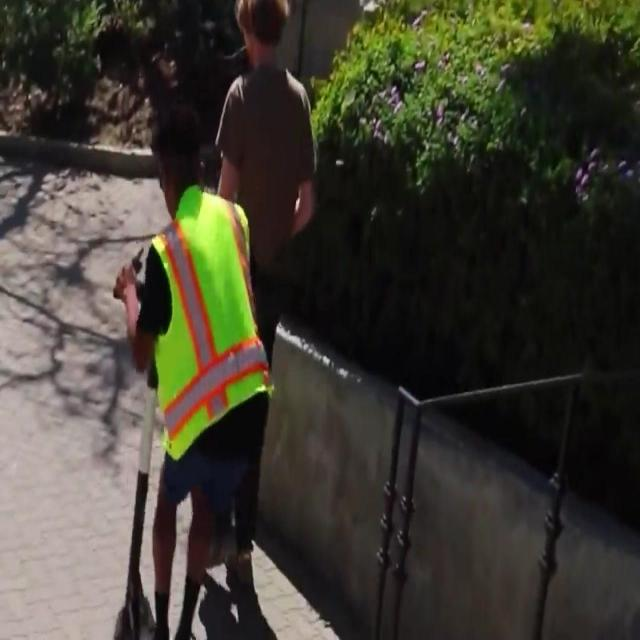Reflective-Jacket: (134, 187, 284, 473)
